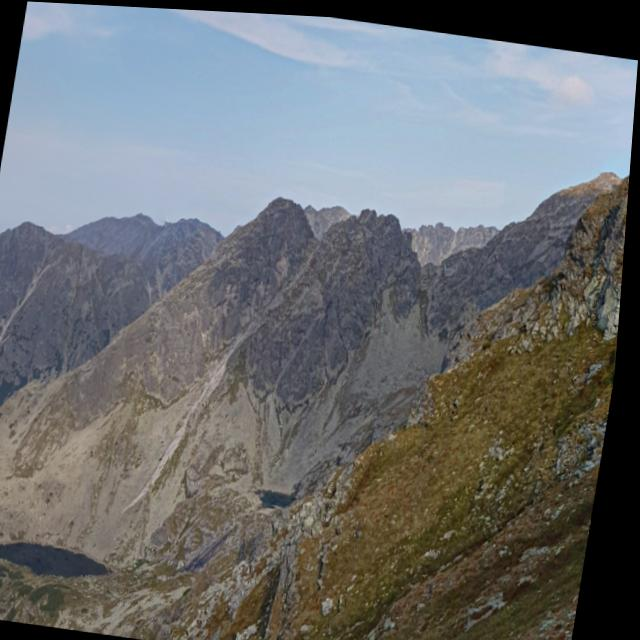Koscielec: (134, 61, 437, 341)
